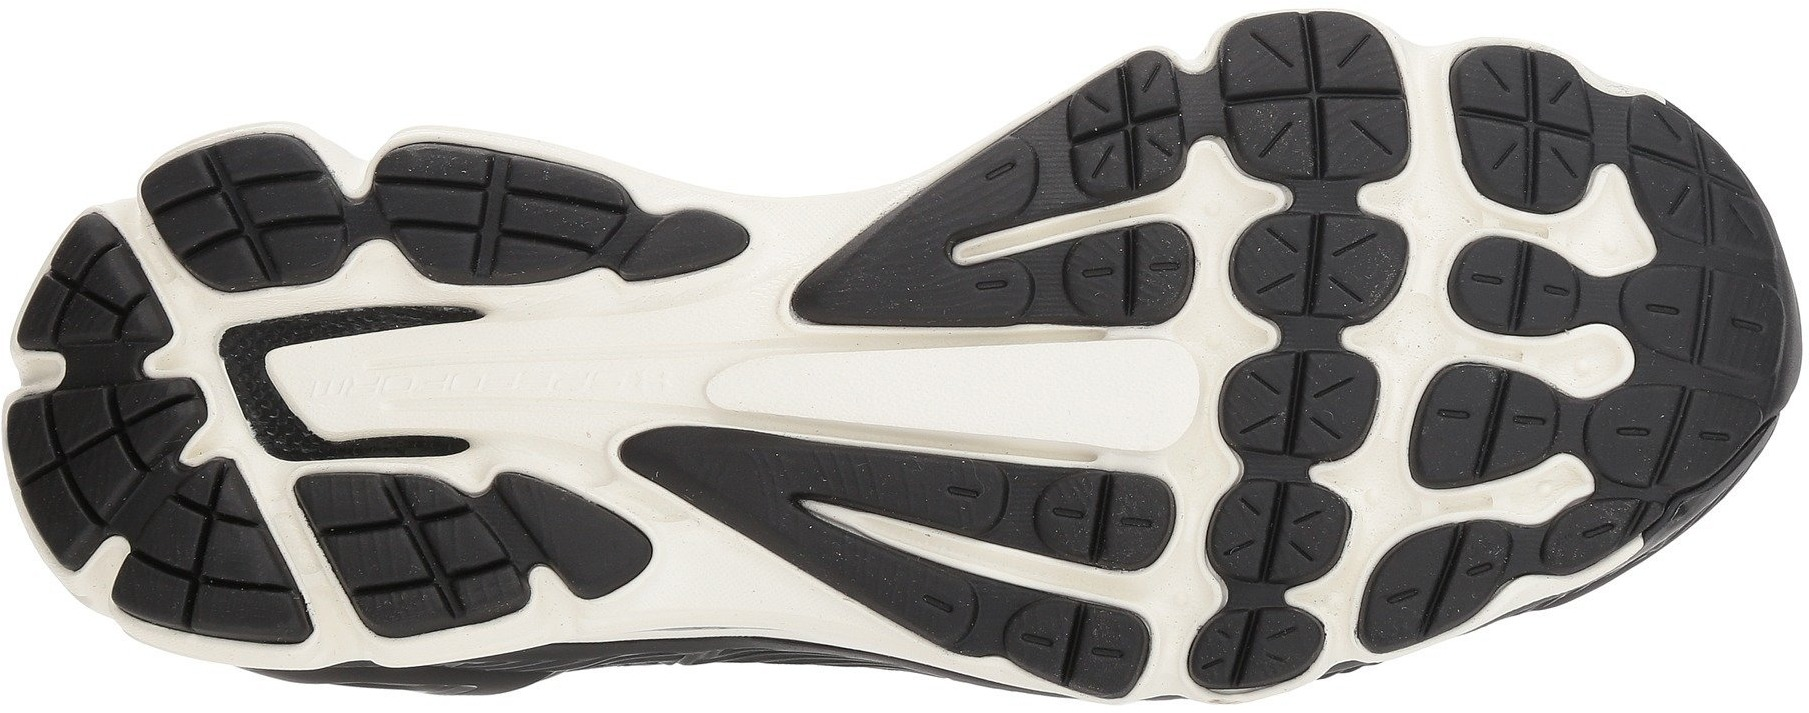other: (1045, 346, 1159, 446), (937, 352, 1026, 431)
quad: (1221, 170, 1596, 498), (1031, 421, 1344, 688), (314, 440, 528, 632), (1219, 6, 1414, 185), (396, 144, 588, 320), (1443, 38, 1609, 222), (174, 141, 335, 291), (1054, 60, 1198, 198)
ribbon: (704, 291, 913, 506)
text: (515, 329, 636, 431), (413, 337, 518, 431), (350, 353, 420, 418)
triangle: (117, 444, 321, 641)
